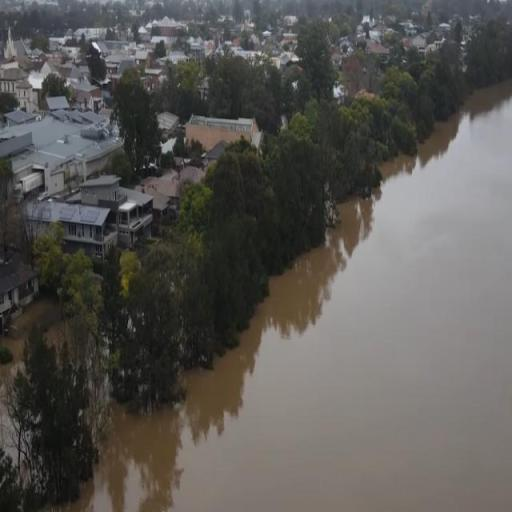flood: (47, 81, 512, 512)
house: (184, 112, 261, 159), (0, 248, 37, 337), (0, 131, 40, 205), (68, 199, 115, 256), (115, 190, 156, 246), (40, 147, 84, 199), (0, 64, 27, 94), (16, 80, 34, 113)
